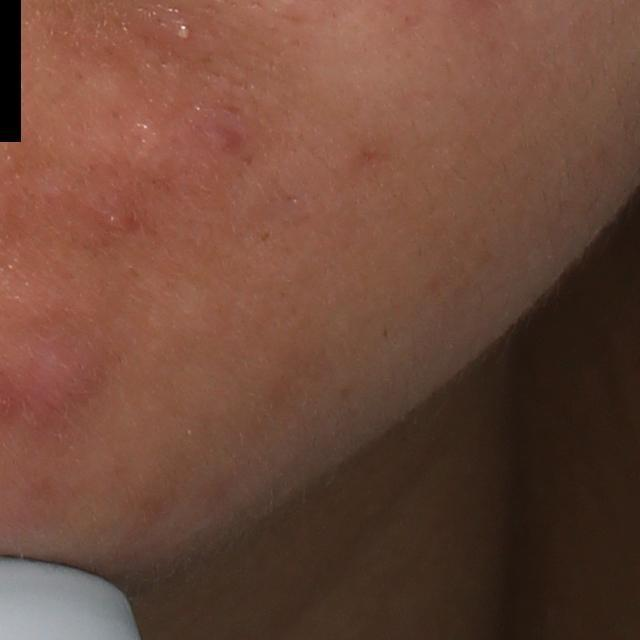pustule: (166, 17, 196, 45)
